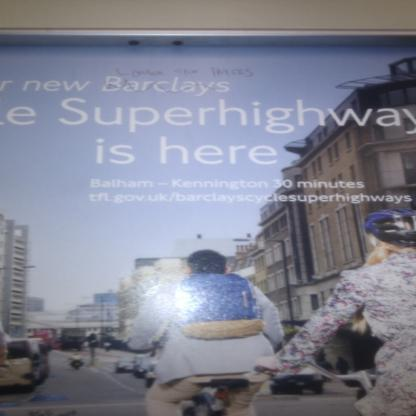Helmet: (360, 206, 416, 249)
